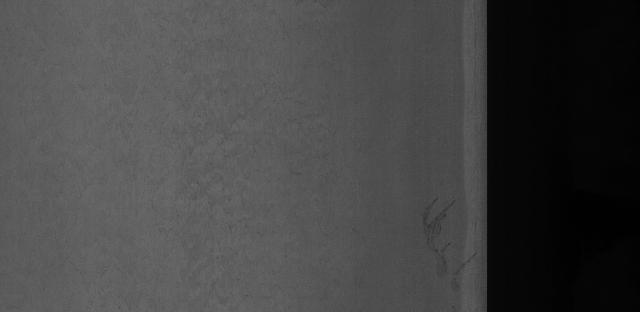silk_spot: (91, 36, 338, 303)
water_spot: (412, 194, 468, 290)
